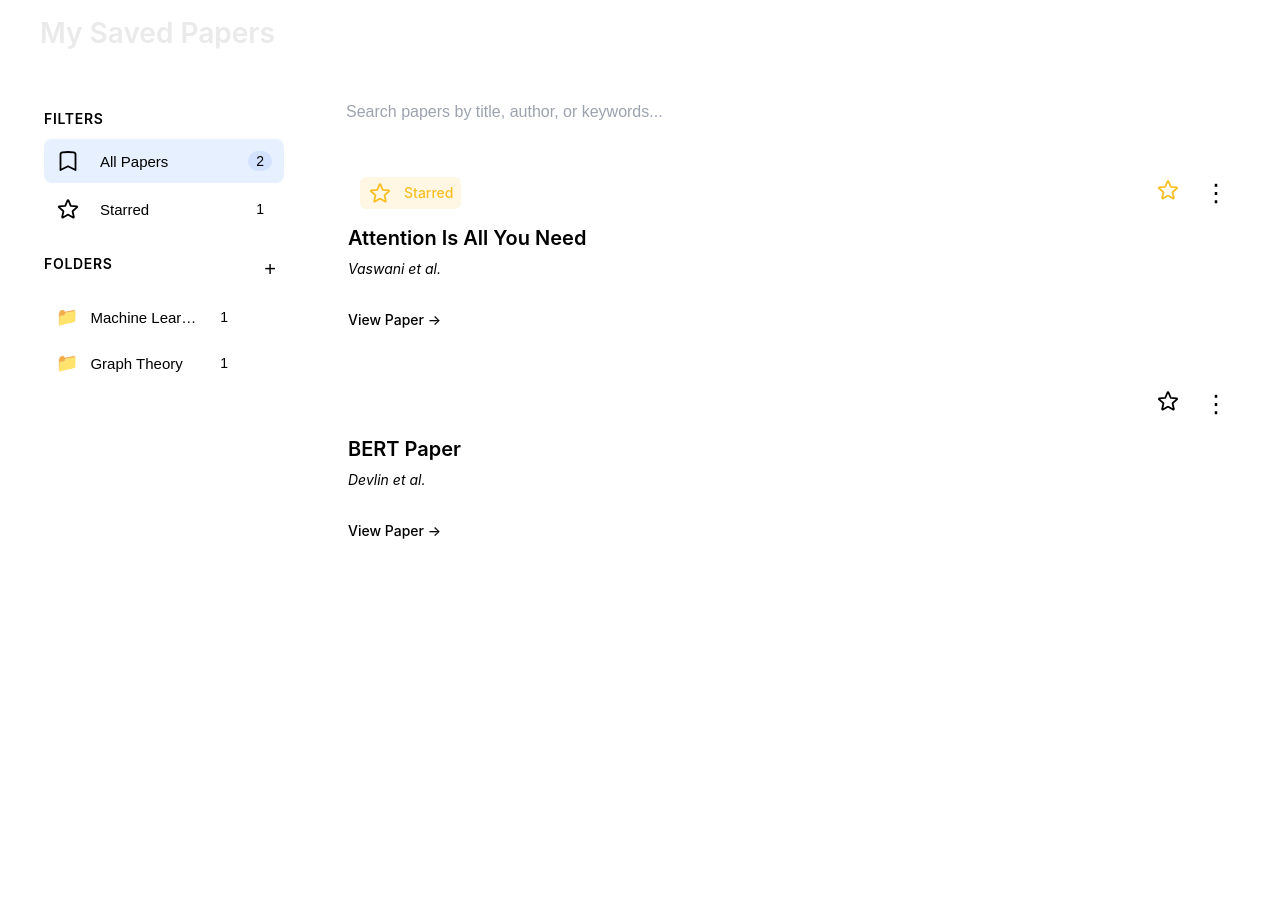
it: PersonalPage › folder creation › should close modal after folder creation
Click the button titled "Create folder" at coordinates (270, 270), box [256, 256, 284, 284]
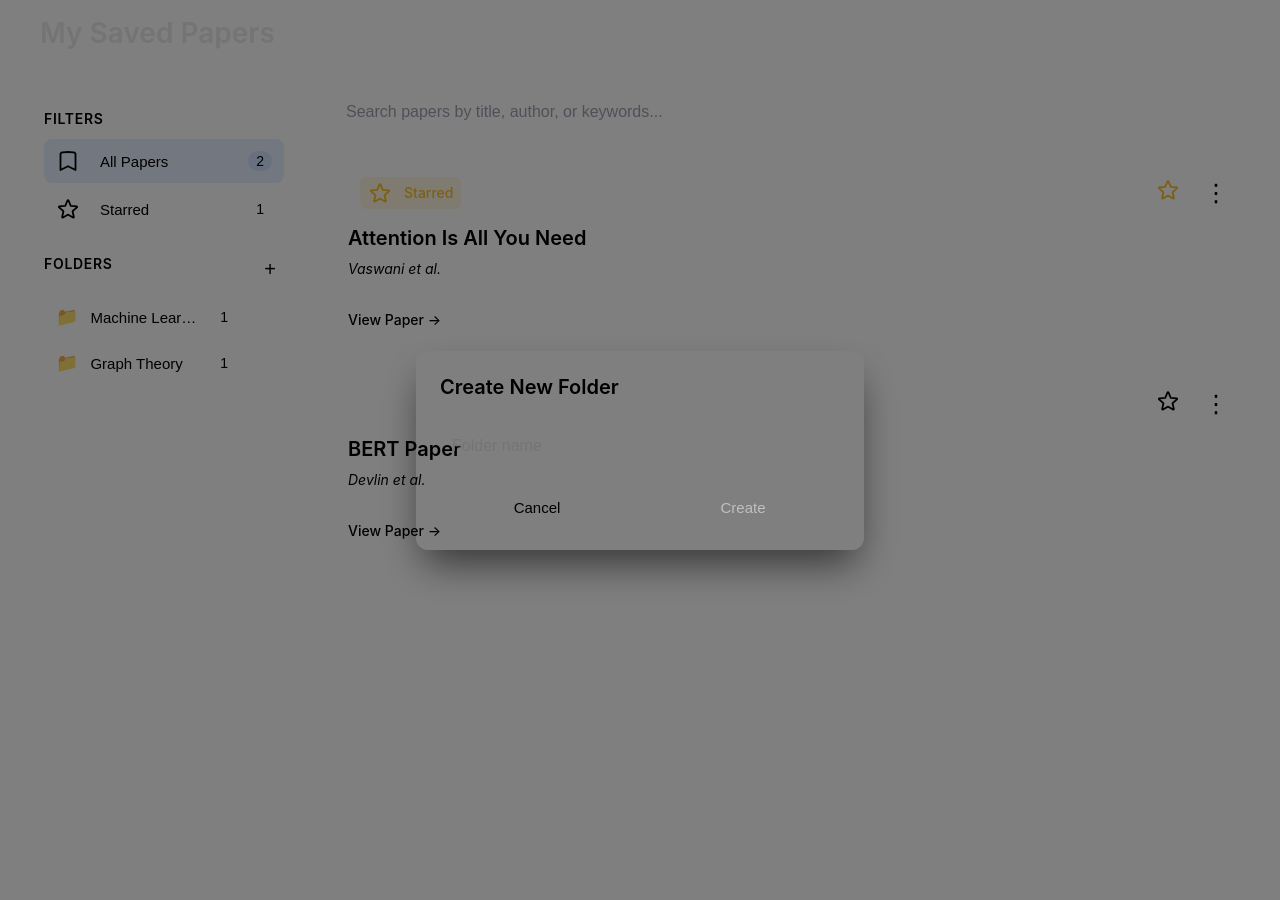
Type "New Folder" into the field with placeholder "Folder name" at coordinates (640, 446), box [452, 428, 828, 462]
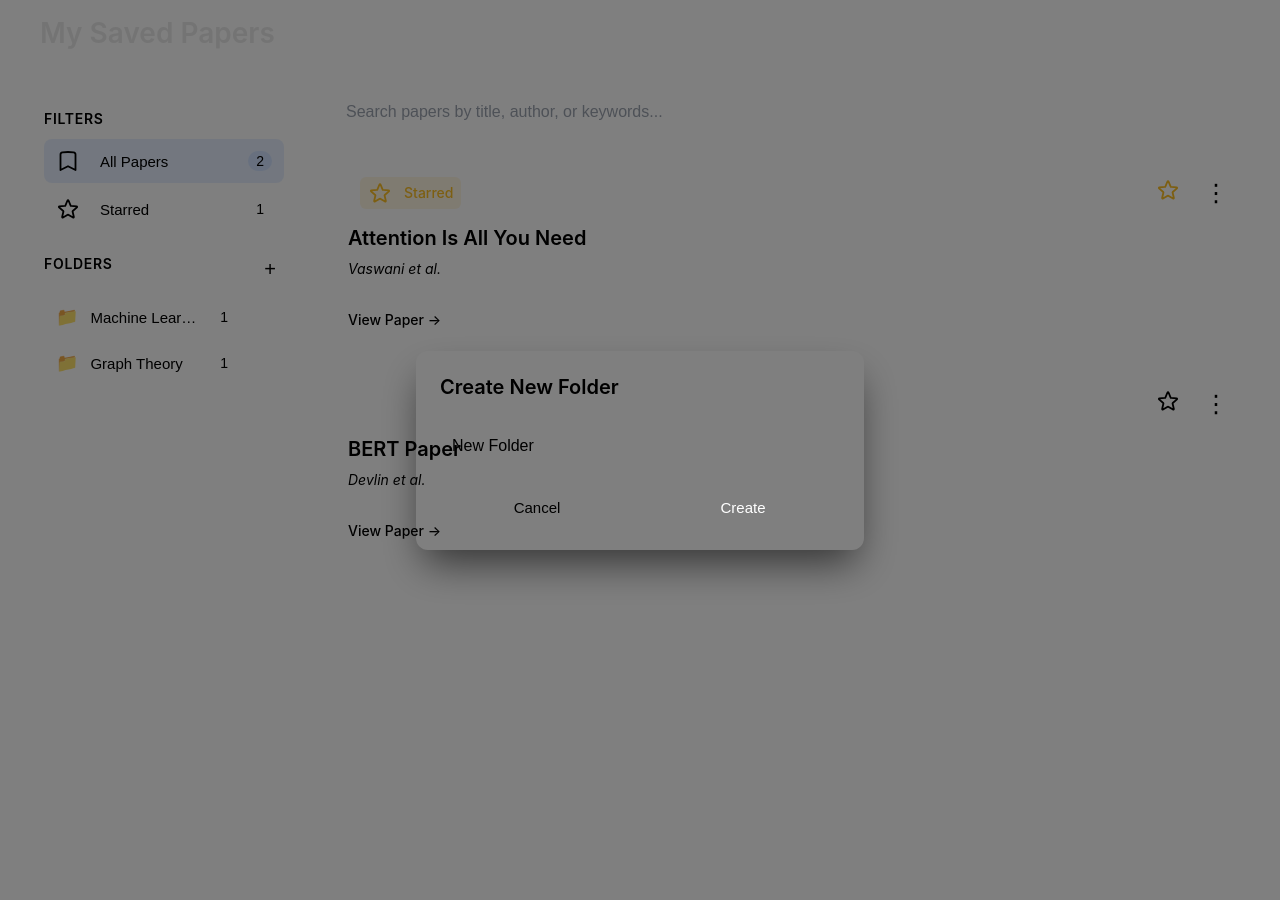
Click the button "Create" at coordinates (743, 507), box [646, 488, 840, 526]
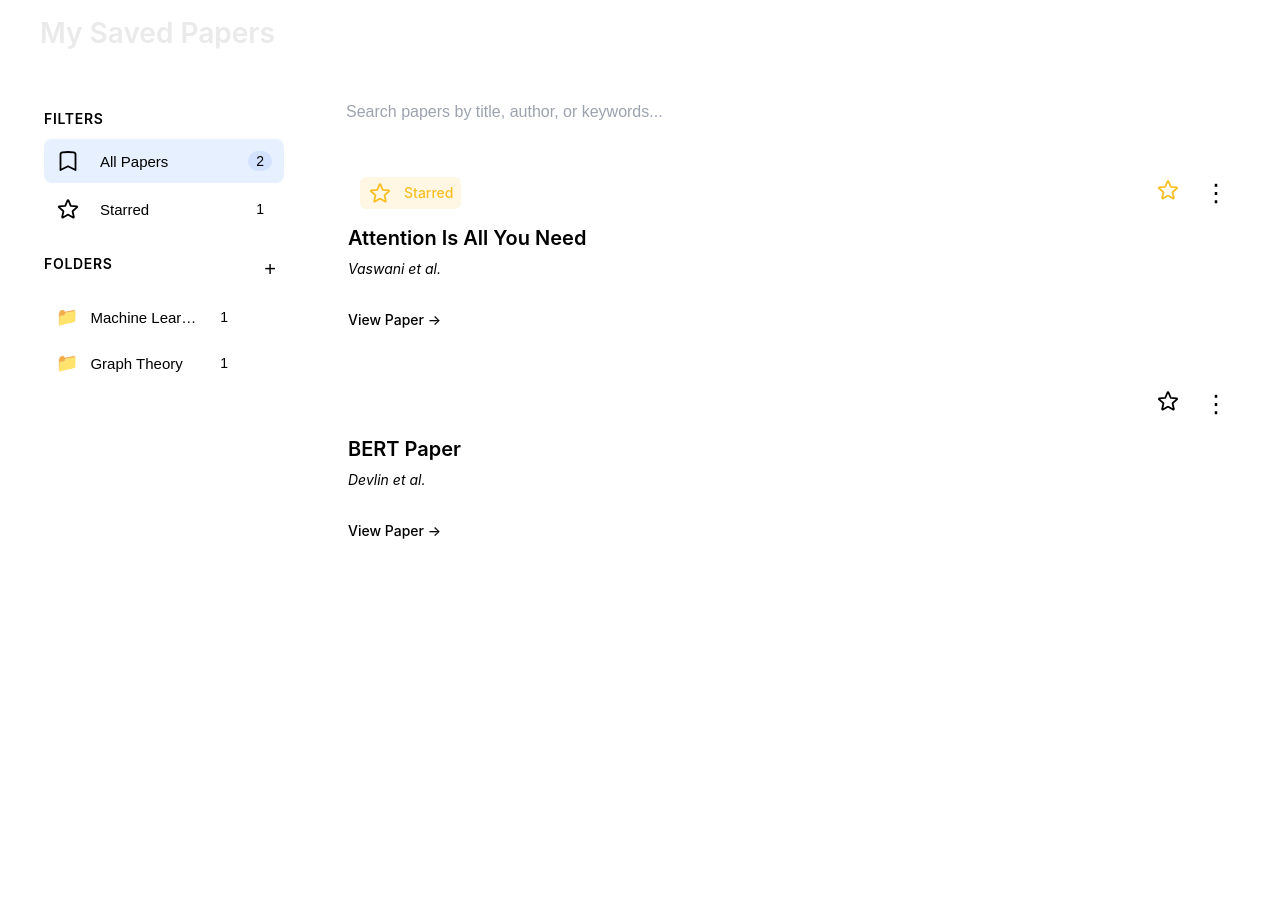
Expected: the heading "Create New Folder" is gone
